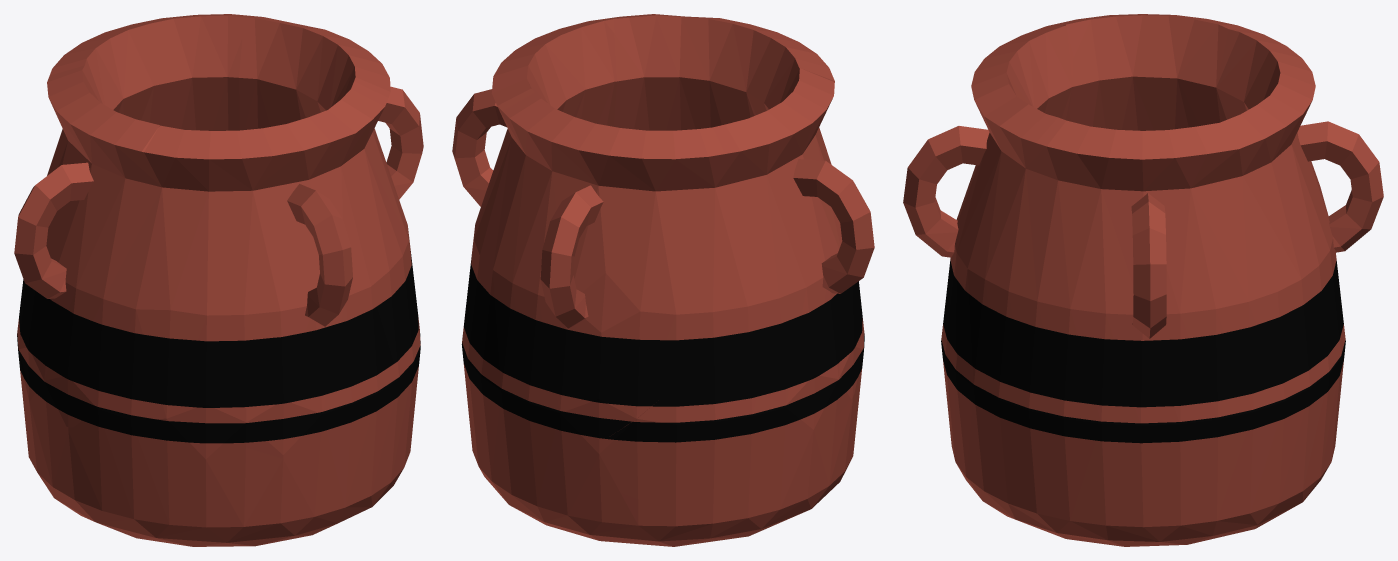
File: Pottery 12_2b.fbx
3 views of the same model, side by side, from view 1: azimuth 30°, elevation 25°; view 2: azimuth 150°, elevation 25°; view 3: azimuth 270°, elevation 25° (orthographic).
Parts seen in each view (by area): view 1: Pottery 12_2b.001, Pottery 12_2b.005, Pottery 12_2b, Pottery 12_2b.006, Pottery 12_2b.004; view 2: Pottery 12_2b.006, Pottery 12_2b, Pottery 12_2b.005, Pottery 12_2b.001, Pottery 12_2b.002, Pottery 12_2b.004, Pottery 12_2b.003; view 3: Pottery 12_2b.004, Pottery 12_2b, Pottery 12_2b.001, Pottery 12_2b.006, Pottery 12_2b.003, Pottery 12_2b.005, Pottery 12_2b.002.
Boxes of the visible parts, bbox=[...] form: Pottery 12_2b.001: bbox=[142, 81, 415, 463]; Pottery 12_2b.005: bbox=[14, 65, 191, 430]; Pottery 12_2b: bbox=[17, 296, 420, 546]; Pottery 12_2b.006: bbox=[49, 14, 248, 130]; Pottery 12_2b.004: bbox=[239, 15, 423, 330]; Pottery 12_2b.006: bbox=[481, 92, 736, 464]; Pottery 12_2b: bbox=[464, 325, 861, 546]; Pottery 12_2b.005: bbox=[712, 68, 874, 418]; Pottery 12_2b.001: bbox=[603, 14, 834, 144]; Pottery 12_2b.002: bbox=[473, 290, 738, 438]; Pottery 12_2b.004: bbox=[452, 19, 616, 369]; Pottery 12_2b.003: bbox=[461, 254, 485, 369]; Pottery 12_2b.004: bbox=[1021, 111, 1294, 475]; Pottery 12_2b: bbox=[946, 345, 1340, 546]; Pottery 12_2b.001: bbox=[903, 24, 1079, 391]; Pottery 12_2b.006: bbox=[1216, 29, 1383, 399]; Pottery 12_2b.003: bbox=[1019, 309, 1295, 443]; Pottery 12_2b.005: bbox=[1049, 14, 1250, 130]; Pottery 12_2b.002: bbox=[1285, 260, 1345, 388].
Size of the model in its own units: 62.86 by 59.48 by 62.86.
